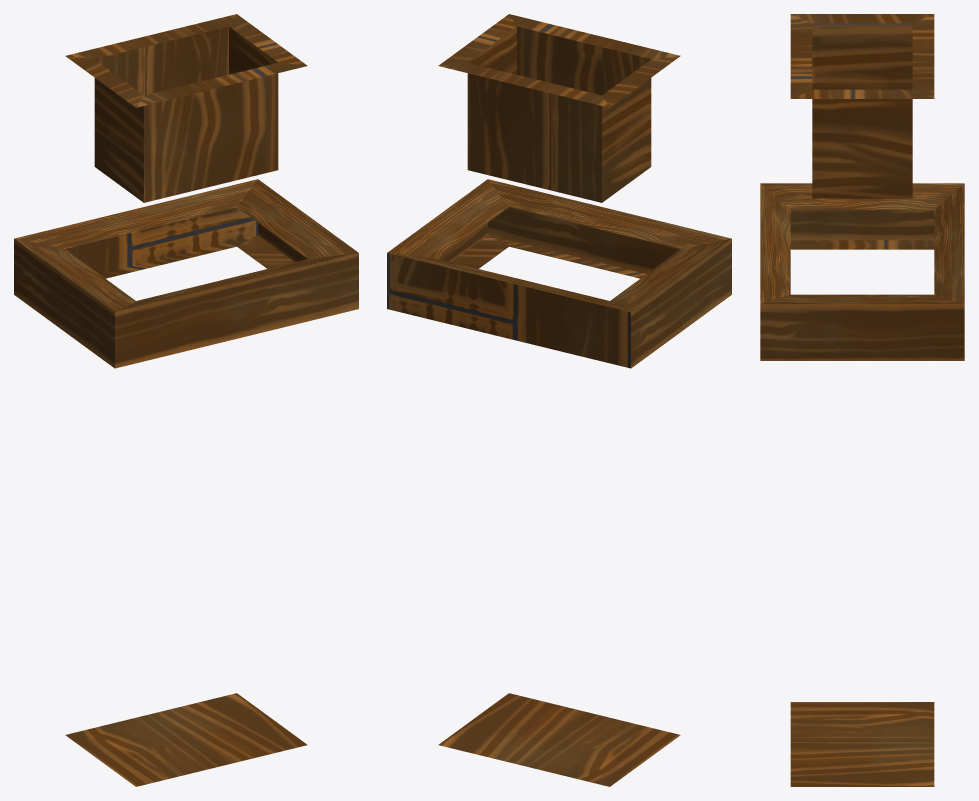
The picture shows the model from 3 angles, left to right: view 1: azimuth 30°, elevation 25°; view 2: azimuth 150°, elevation 25°; view 3: azimuth 270°, elevation 25°; orthographic projection.
Parts seen in each view (by area): view 1: Cube.674; view 2: Cube.674; view 3: Cube.674.
Part boxes in pixels (x1,y1,x2,y2): Cube.674: (14, 14, 358, 786); Cube.674: (387, 14, 731, 786); Cube.674: (760, 14, 964, 786).
Size of the model in its own units: 128 by 342 by 91.92.
1 material, 1 textured.
